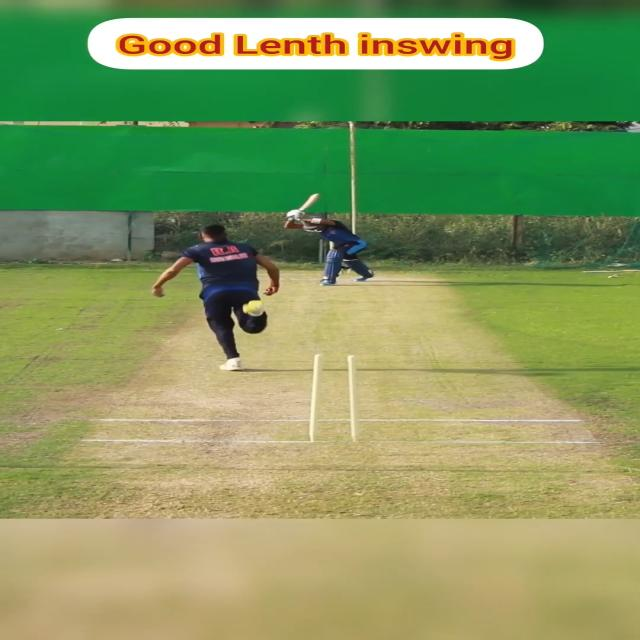stump: (305, 351, 363, 443)
